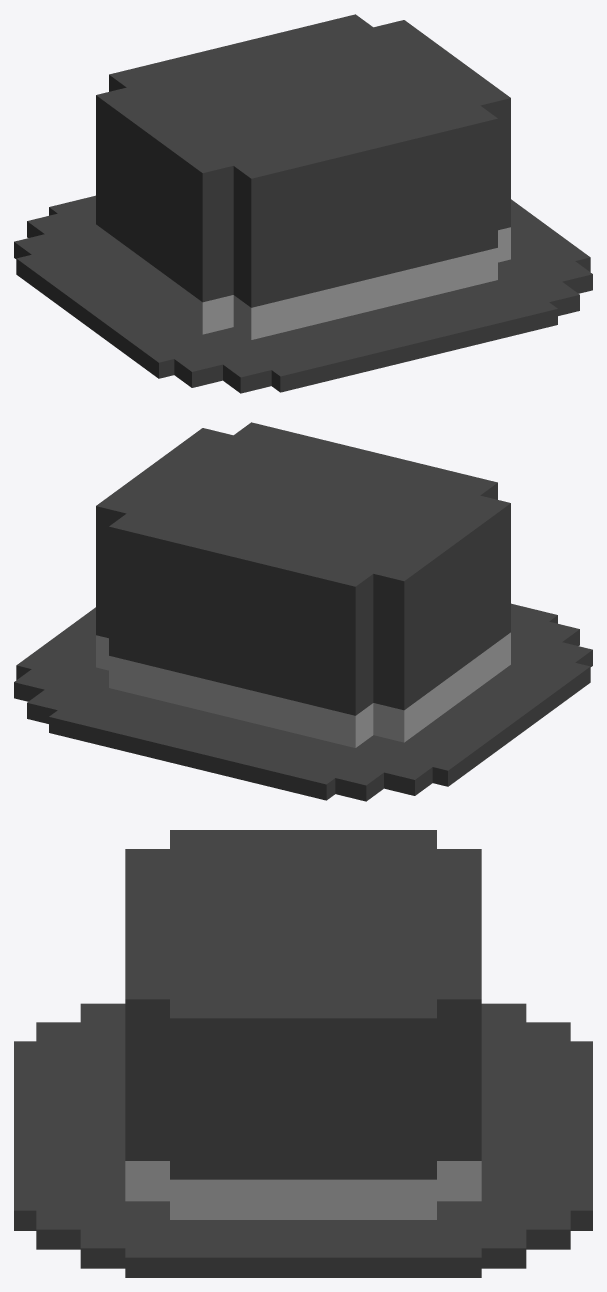
3 views of the same model, one above another, from view 1: azimuth 30°, elevation 25°; view 2: azimuth 150°, elevation 25°; view 3: azimuth 270°, elevation 25° (orthographic). The views are drawn at different scales.
Visible parts, largest first — view 1: 84; view 2: 84; view 3: 84.
Boxes of the visible parts, <box> form: 84: <box>14,14,592,393</box>; 84: <box>14,422,592,801</box>; 84: <box>14,830,592,1277</box>.
Bounding box in the file's own units: 280 × 110 × 260.
1 material, 1 textured.
